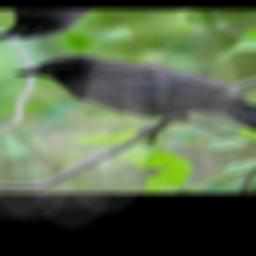Crow: (9, 20, 256, 175)
